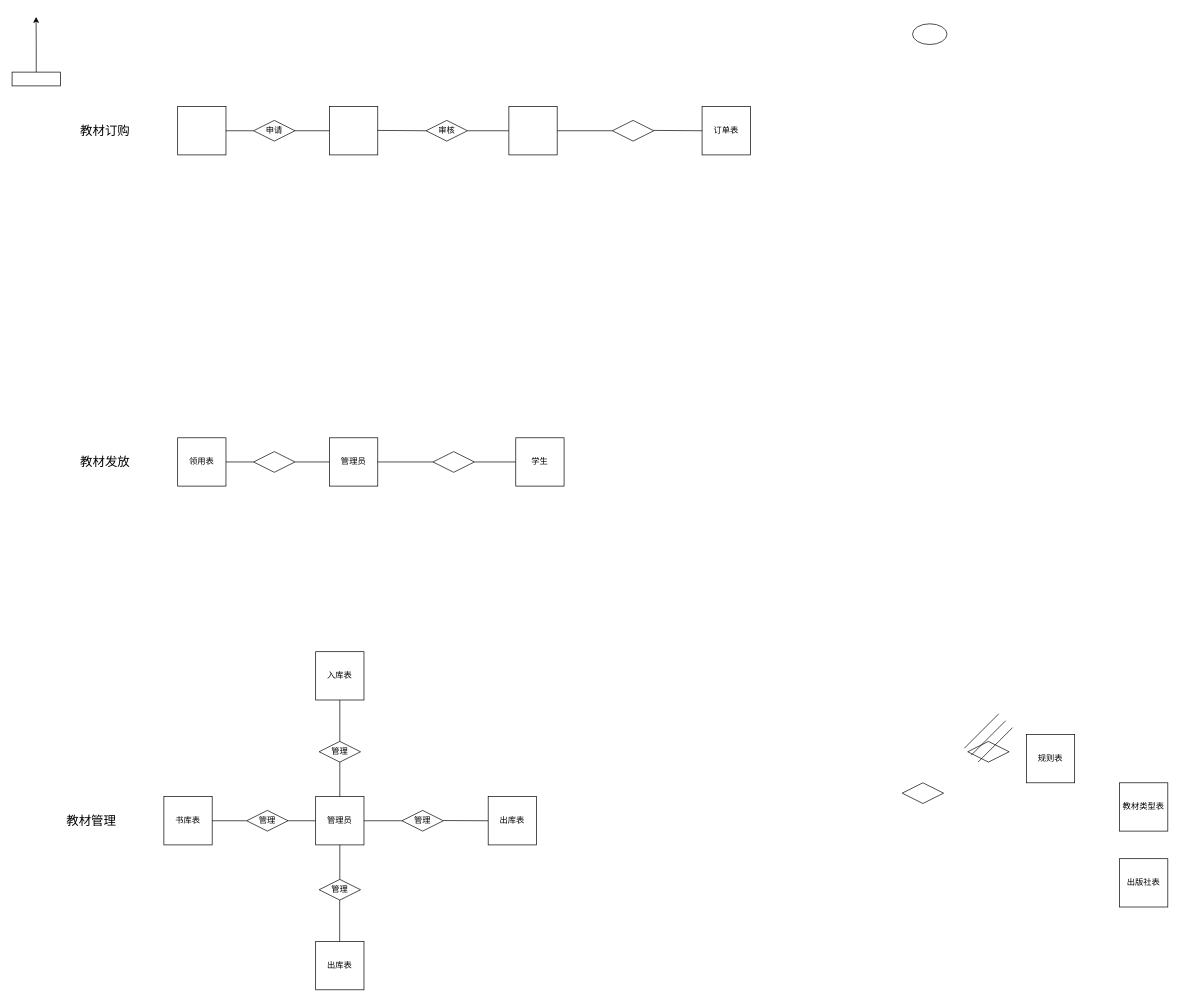
Some shapes in this 1180 by 1002 pixel diagram are drawn without their labels. The box of each missing label's shape, as (x1, y1, x2, y2) in pixels:
emty: (11, 71, 60, 86)
ISBN: (912, 23, 947, 45)
参照: (253, 451, 295, 472)
发放: (432, 451, 474, 472)
教师: (177, 106, 226, 155)
教材需求表: (329, 106, 378, 155)
采购: (612, 120, 654, 141)
采购人员: (508, 106, 557, 155)
